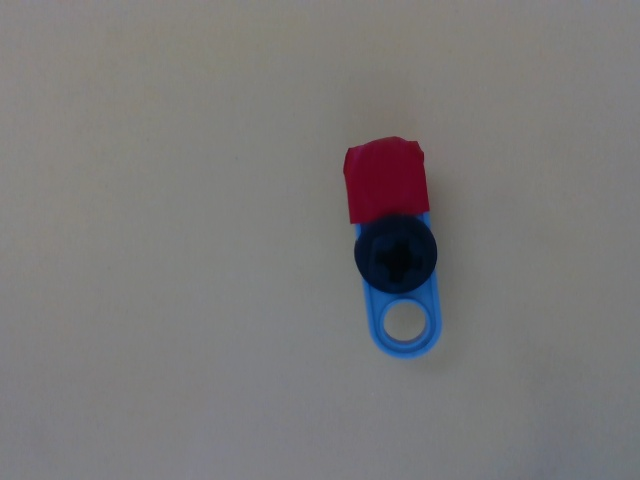part_1_good: (340, 134, 446, 364)
